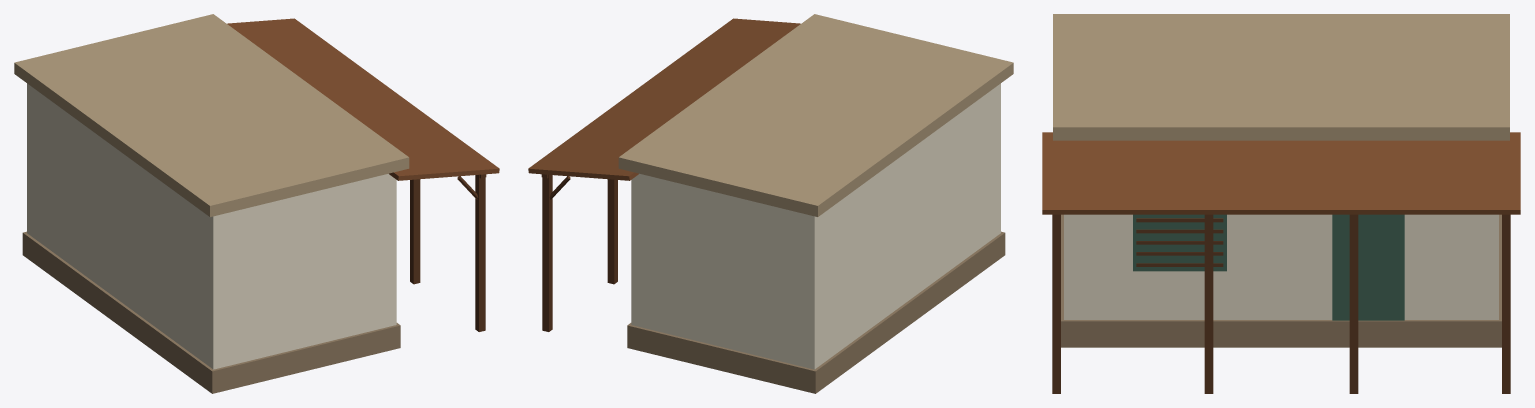
File: halt_shelter.glb
3 renders of one model, left to right at view 1: azimuth 30°, elevation 25°; view 2: azimuth 150°, elevation 25°; view 3: azimuth 270°, elevation 25°, orthographic. The views are drawn at different scales.
Parts seen in each view (by area): view 1: Body; view 2: Body; view 3: Body.
Boxes of the visible parts, bbox=[...] form: Body: bbox=[14, 14, 499, 393]; Body: bbox=[528, 14, 1013, 393]; Body: bbox=[1042, 14, 1520, 393].
Size of the model in its own units: 5.29 by 3.4 by 6.6.
